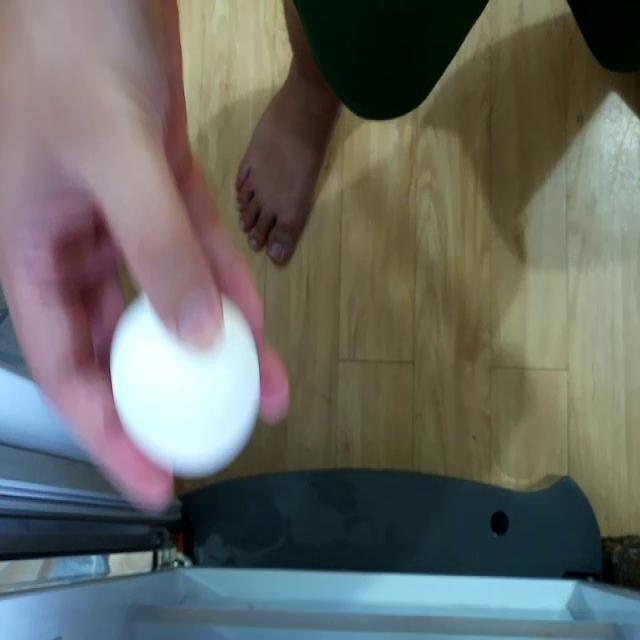egg: (113, 290, 260, 469)
